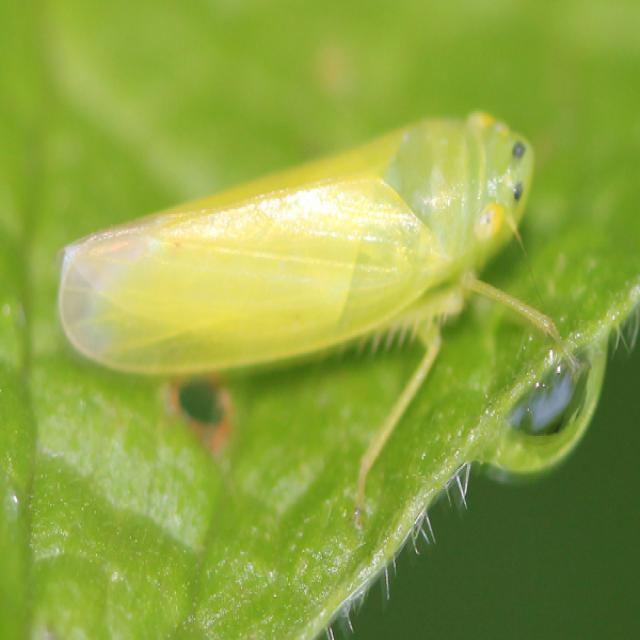Yechan: (33, 94, 570, 417)
